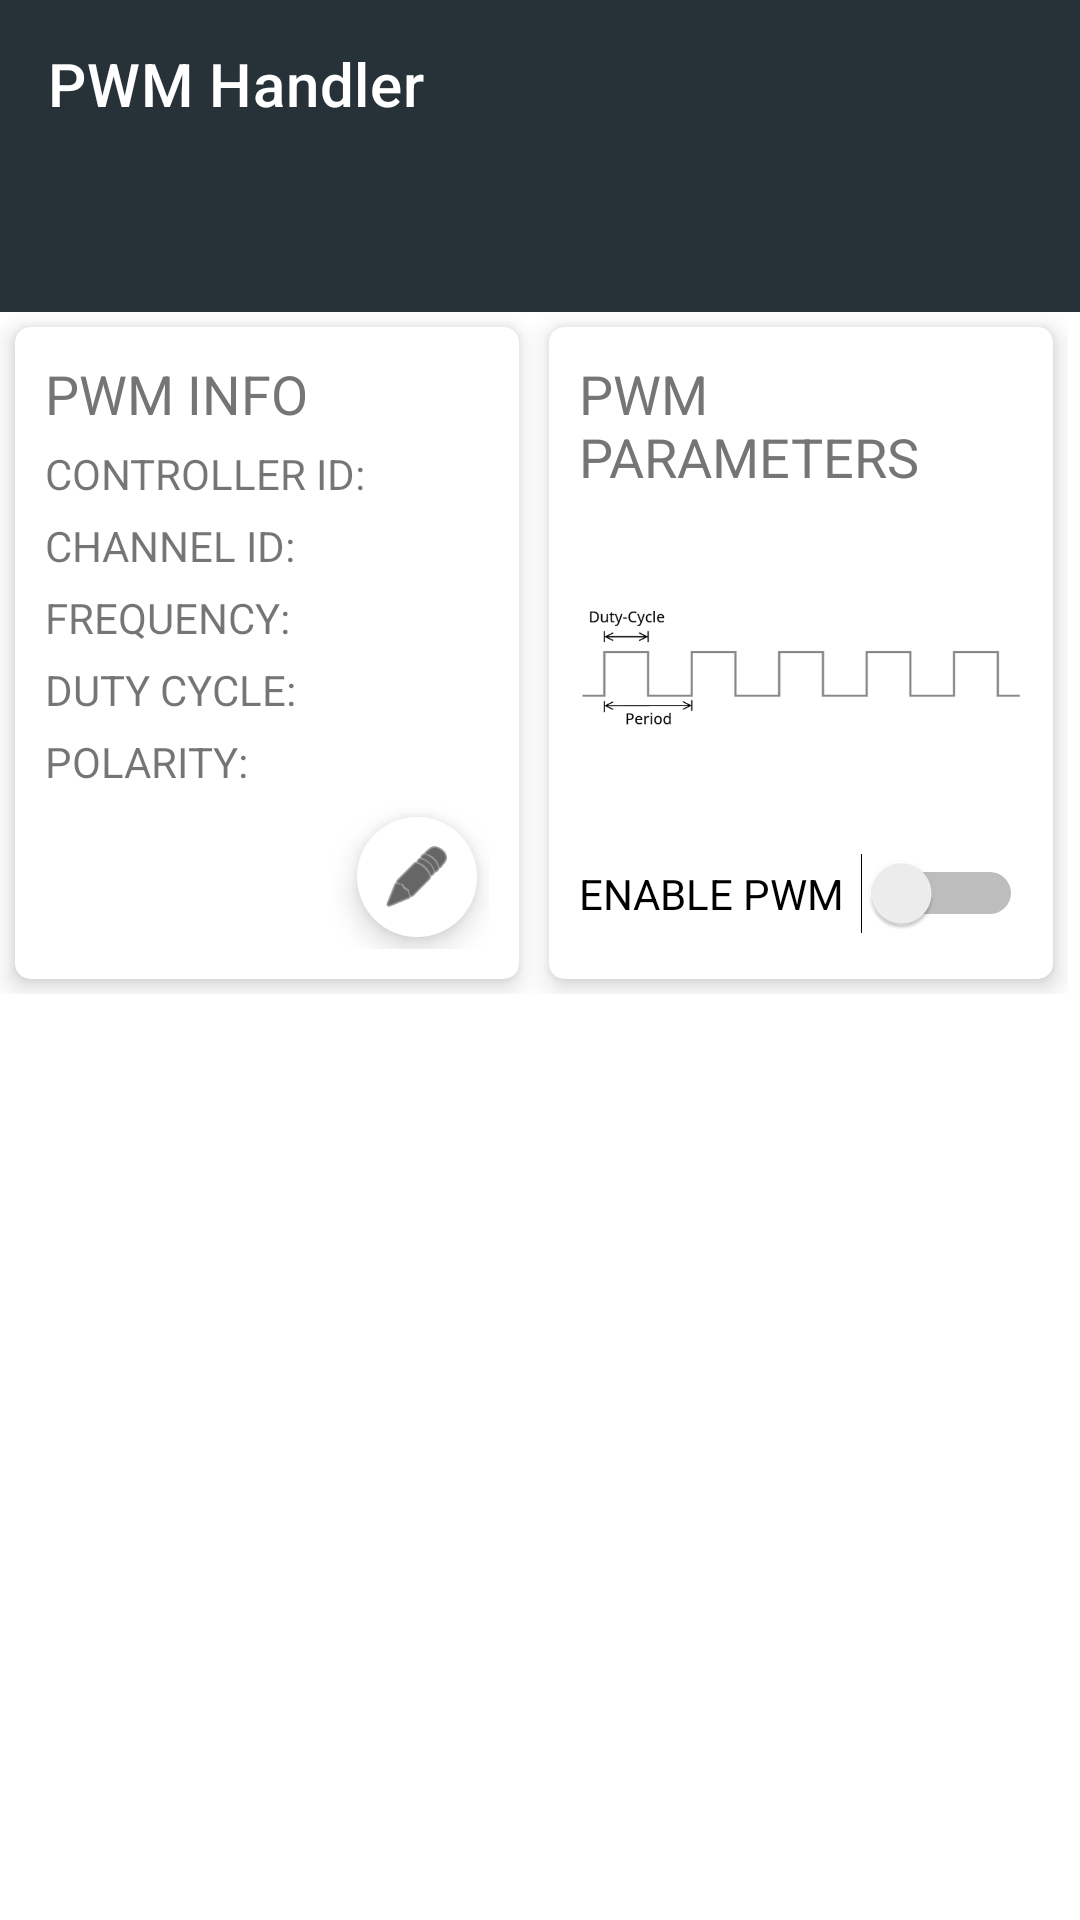

Icon click points for this 1080px×1920px phone screenshot, format [x,y]:
edit: [415,894]
